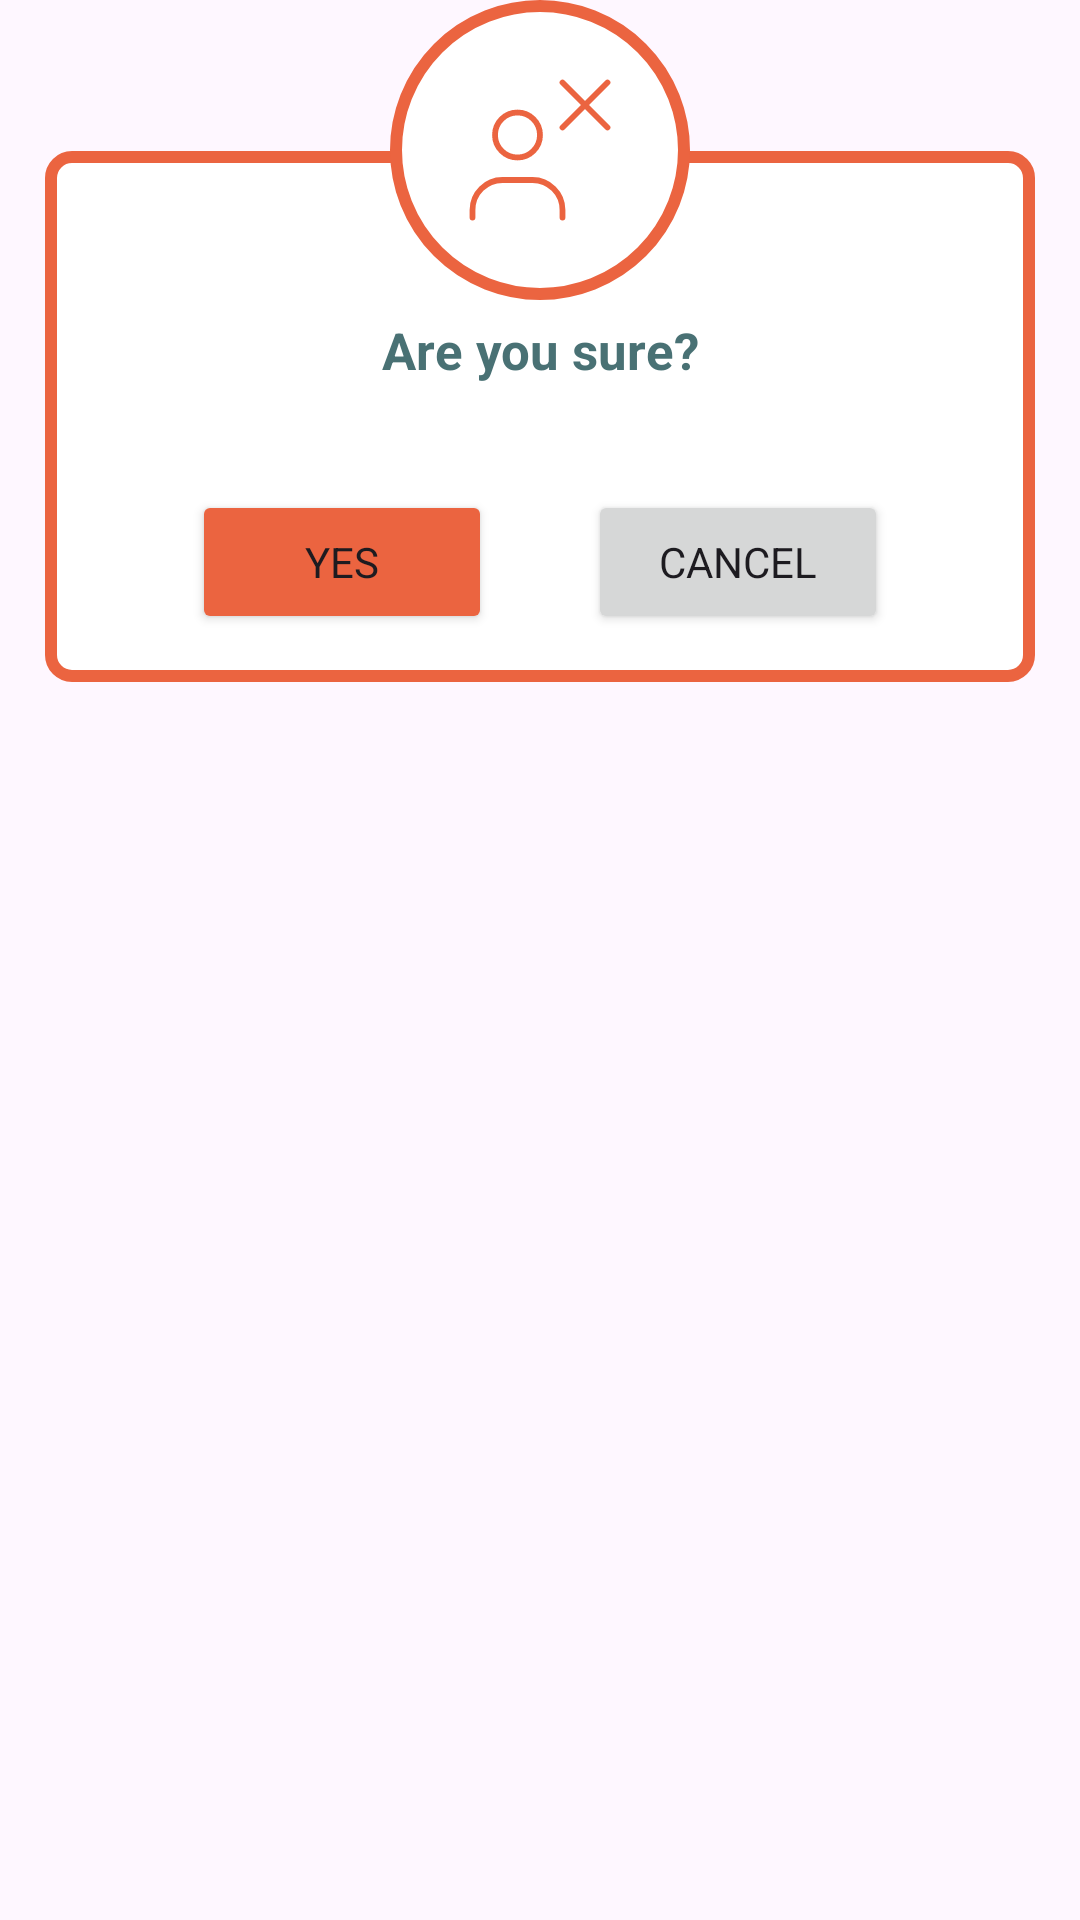

Icon click points for this 1080*1920 phone screenshot, format (x,y):
delete account: (540,150)
